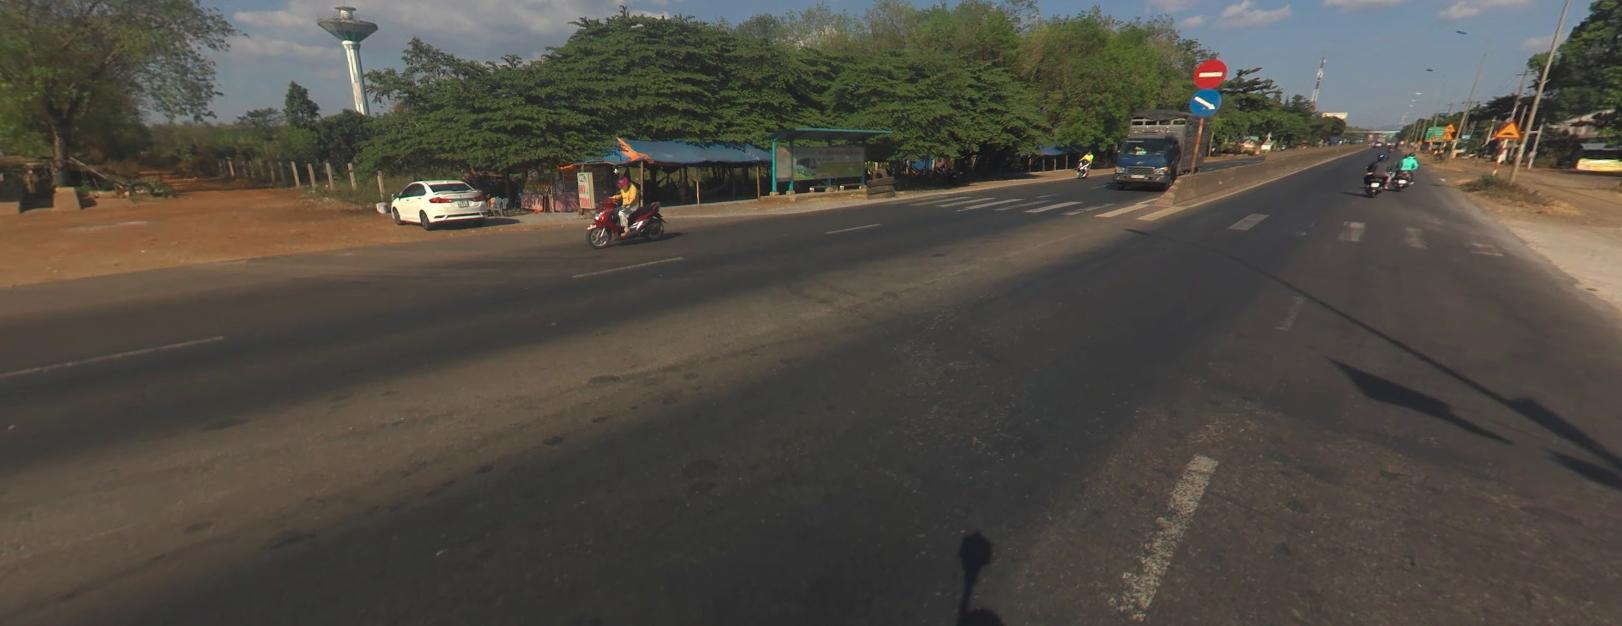Cam nguoc chieu: (1193, 57, 1226, 86), (1193, 58, 1225, 87), (1192, 59, 1226, 86)
Hieu lenh: (1189, 87, 1221, 116), (1188, 88, 1221, 115), (1189, 88, 1221, 114)
Nguy hiem: (1494, 118, 1521, 137), (1495, 118, 1520, 138), (1494, 120, 1519, 137), (1443, 121, 1456, 130), (1443, 122, 1455, 130), (1445, 121, 1455, 130), (1440, 131, 1452, 139), (1441, 131, 1451, 139), (1441, 131, 1451, 138), (1428, 135, 1436, 140), (1428, 135, 1435, 140), (1416, 139, 1421, 143), (1417, 139, 1421, 143)
